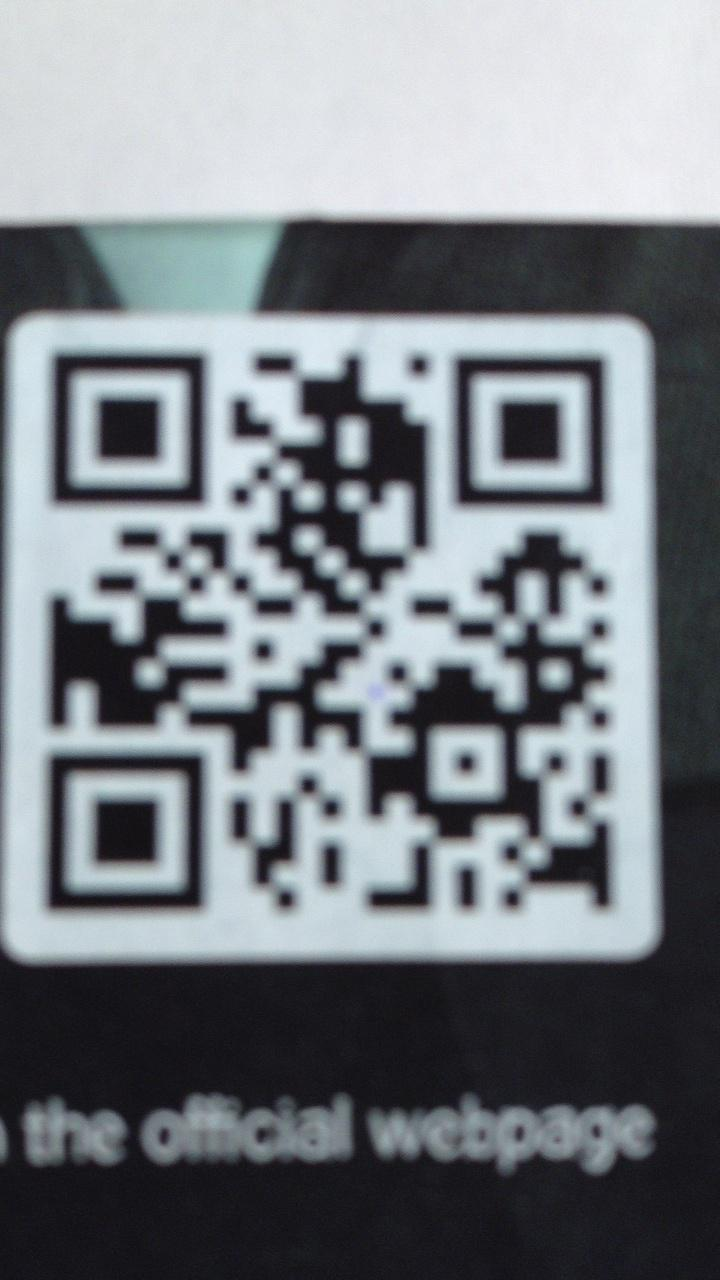Finder pattern: (37, 738, 217, 927), (36, 337, 216, 515), (441, 343, 619, 519)
